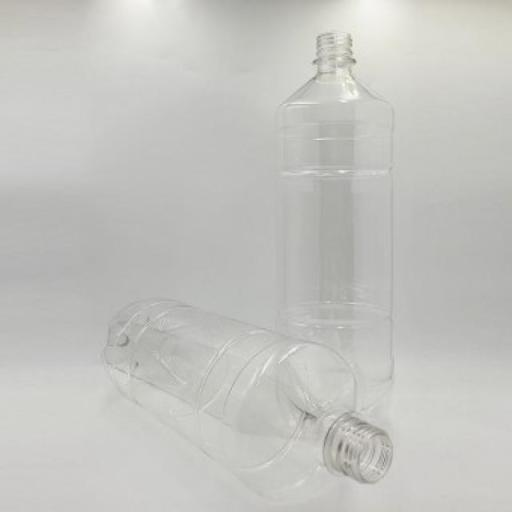plastic: (101, 295, 394, 500), (270, 32, 394, 386)
